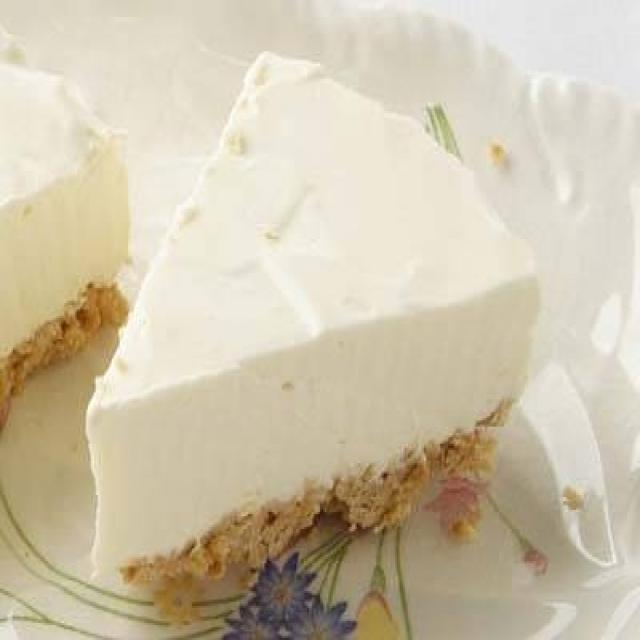熟制海鲜: (0, 11, 623, 640)
